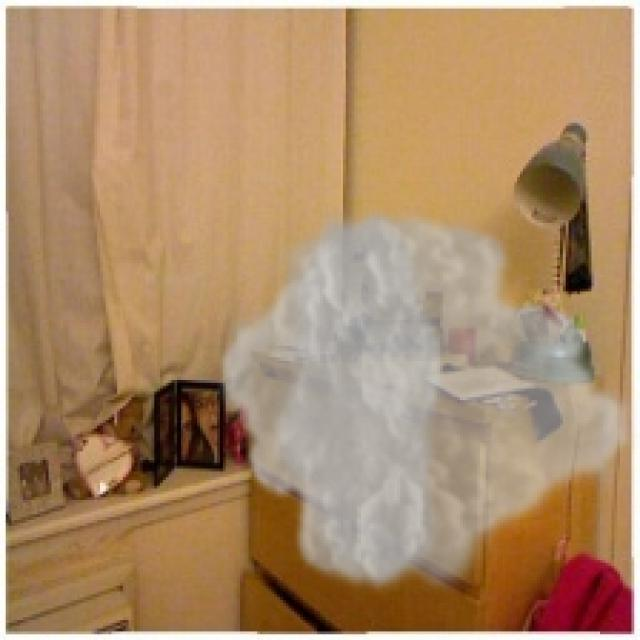Smoke: (214, 200, 637, 603)
